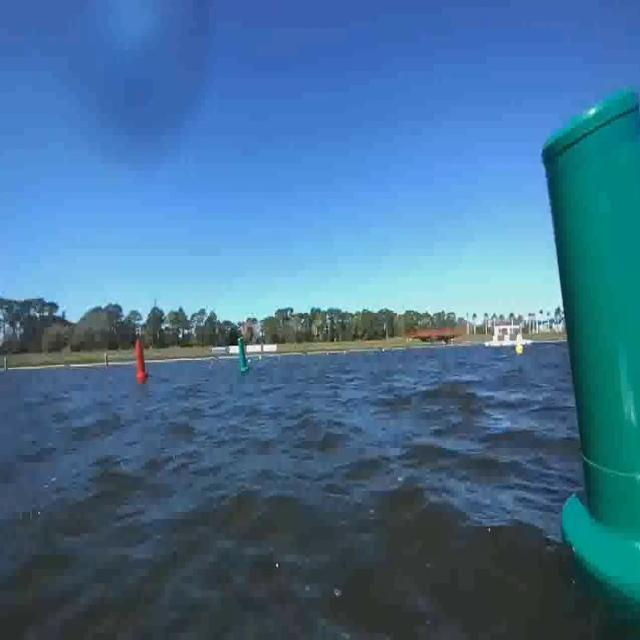green-column-buoy: (517, 52, 640, 640), (227, 332, 256, 378)
red-column-buoy: (131, 328, 154, 386)
